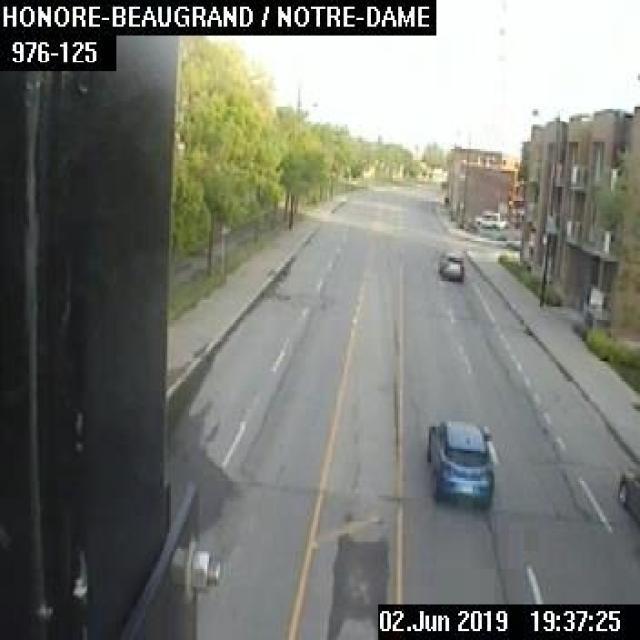vehicle: (422, 419, 494, 507), (616, 464, 638, 526), (434, 249, 464, 280), (473, 210, 506, 229)
